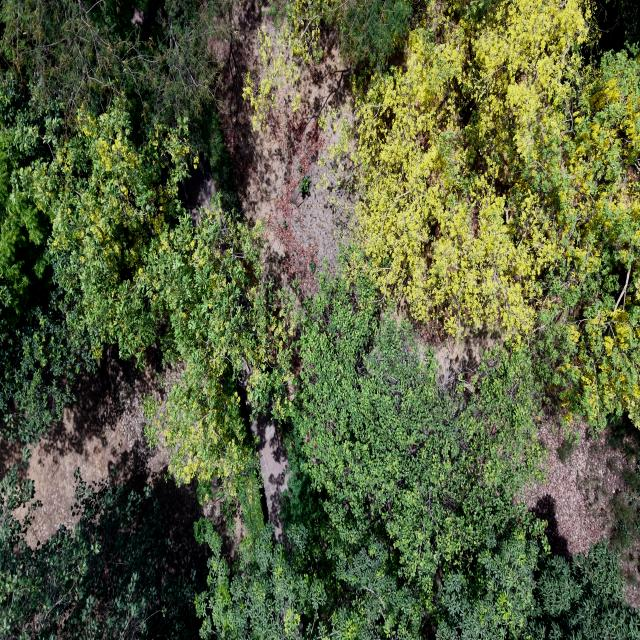DRY_AREA: (0, 345, 242, 564), (0, 346, 243, 562), (0, 345, 241, 561), (0, 346, 204, 564), (0, 345, 202, 561), (211, 0, 356, 297), (210, 0, 352, 295), (209, 1, 350, 297), (209, 0, 350, 295), (210, 0, 350, 297), (211, 0, 351, 295), (209, 1, 349, 295), (21, 347, 204, 561), (217, 1, 351, 293), (21, 346, 214, 546), (22, 346, 168, 546), (522, 408, 627, 557), (524, 415, 625, 557), (524, 419, 622, 556), (240, 370, 287, 539), (416, 324, 503, 384), (251, 415, 287, 538), (179, 159, 216, 224)
VEGETATION_TREE: (0, 0, 639, 639), (197, 287, 637, 637), (0, 1, 289, 527), (350, 1, 639, 429), (355, 1, 639, 427), (0, 469, 639, 639), (24, 101, 286, 512), (356, 1, 618, 339), (356, 1, 587, 339), (291, 285, 543, 591), (196, 522, 639, 639), (195, 439, 430, 639), (148, 208, 290, 527), (24, 100, 193, 356), (0, 0, 224, 165), (0, 468, 200, 639), (0, 72, 88, 441), (196, 522, 428, 639), (436, 528, 639, 639), (0, 142, 75, 440), (243, 0, 413, 129), (538, 242, 639, 430), (436, 526, 549, 639), (524, 542, 639, 639), (272, 0, 414, 68), (324, 0, 413, 67), (609, 419, 639, 565)
